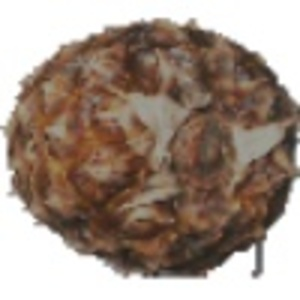abacaxi: (3, 31, 291, 269)
